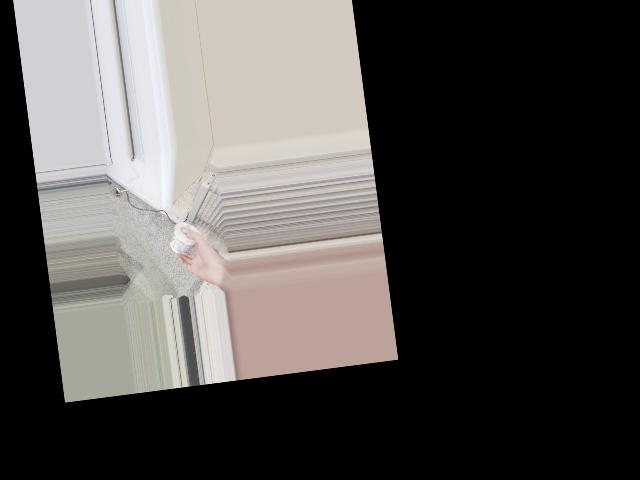cotage: (167, 221, 201, 258)
